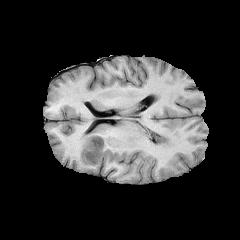glioma: (80, 121, 180, 166)
